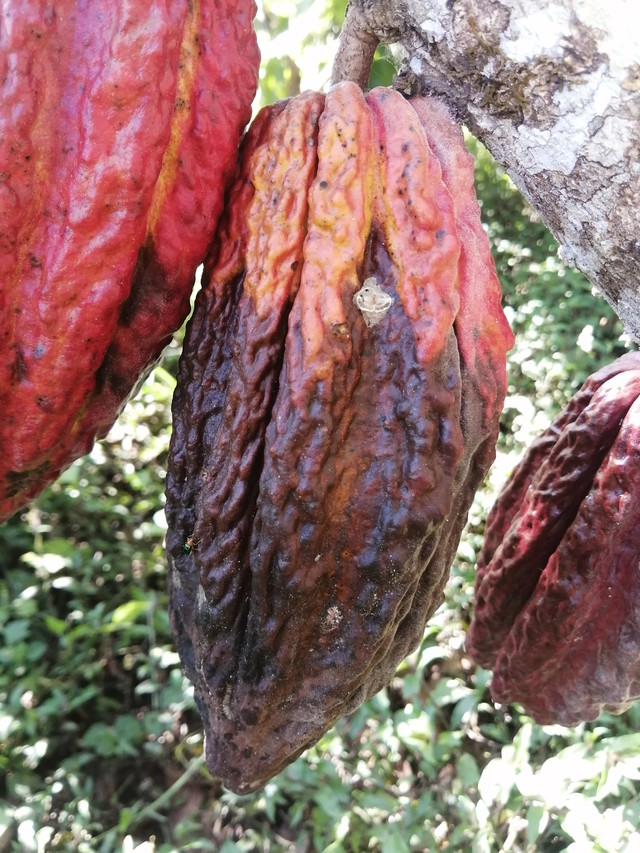phytophthora palmivora: (133, 58, 533, 805)
